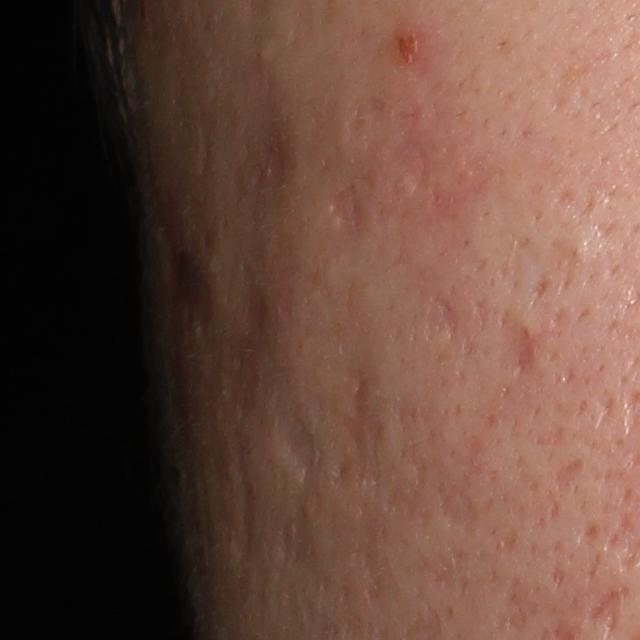atrophic_scar: (337, 89, 422, 206), (261, 364, 324, 482), (331, 373, 388, 493), (236, 95, 295, 198), (234, 428, 264, 563), (495, 567, 540, 635), (502, 314, 544, 382), (443, 472, 481, 536), (423, 292, 464, 343), (328, 178, 362, 233), (551, 452, 586, 492), (576, 517, 604, 551), (547, 558, 566, 587)
comedo: (256, 42, 272, 60)
papule: (392, 22, 425, 66)
